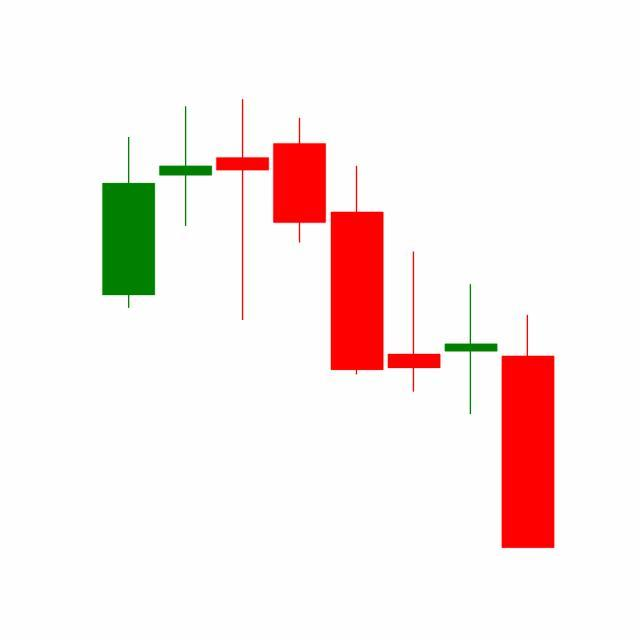Unique 3 River: (328, 163, 500, 417)
